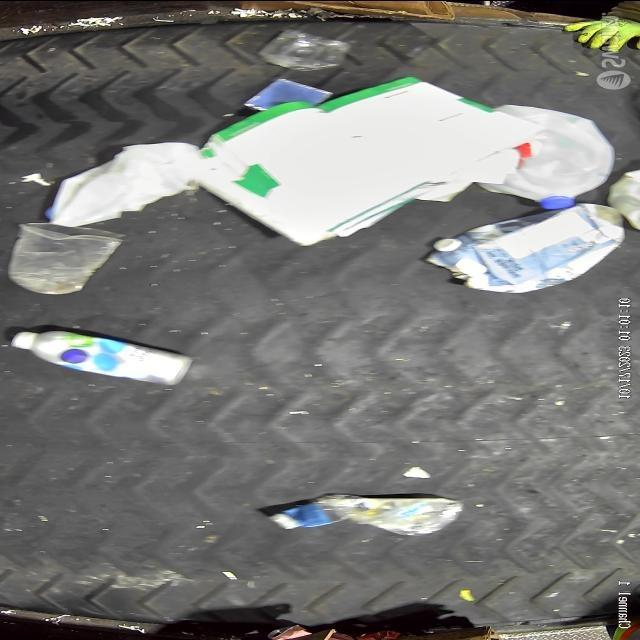milk_jug: (479, 99, 617, 209), (42, 142, 200, 226)
non_white_jug: (425, 202, 623, 292)
plastic_bottle: (268, 492, 458, 530)
